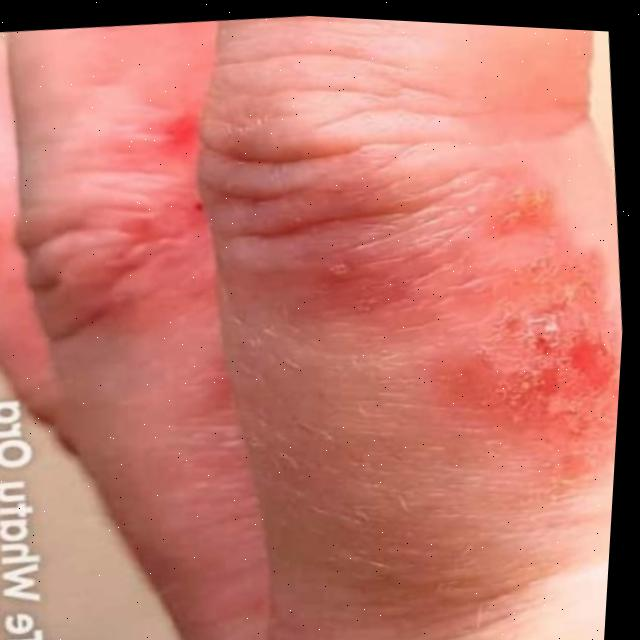Eczema: (10, 112, 633, 475)
